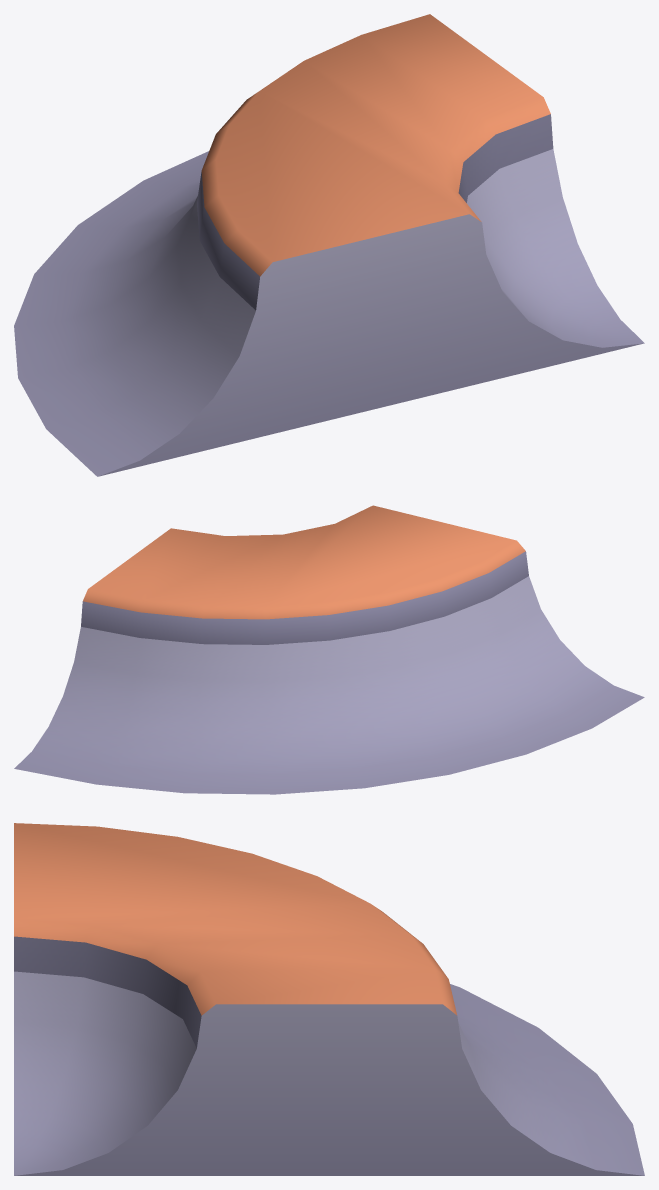
Rendered from obstacle-corner.fbx.
3 views of the same model, one above another, from view 1: azimuth 30°, elevation 25°; view 2: azimuth 150°, elevation 25°; view 3: azimuth 270°, elevation 25° (orthographic). The views are drawn at different scales.
Visible parts, largest first — view 1: obstacle-corner; view 2: obstacle-corner; view 3: obstacle-corner.
Part boxes in pixels (box(x1,y1,x2,y2)): obstacle-corner: box(14, 14, 644, 476); obstacle-corner: box(14, 505, 644, 794); obstacle-corner: box(14, 823, 644, 1175).
Size of the model in its own units: 100 by 30 by 100.
1 material, 1 textured.
